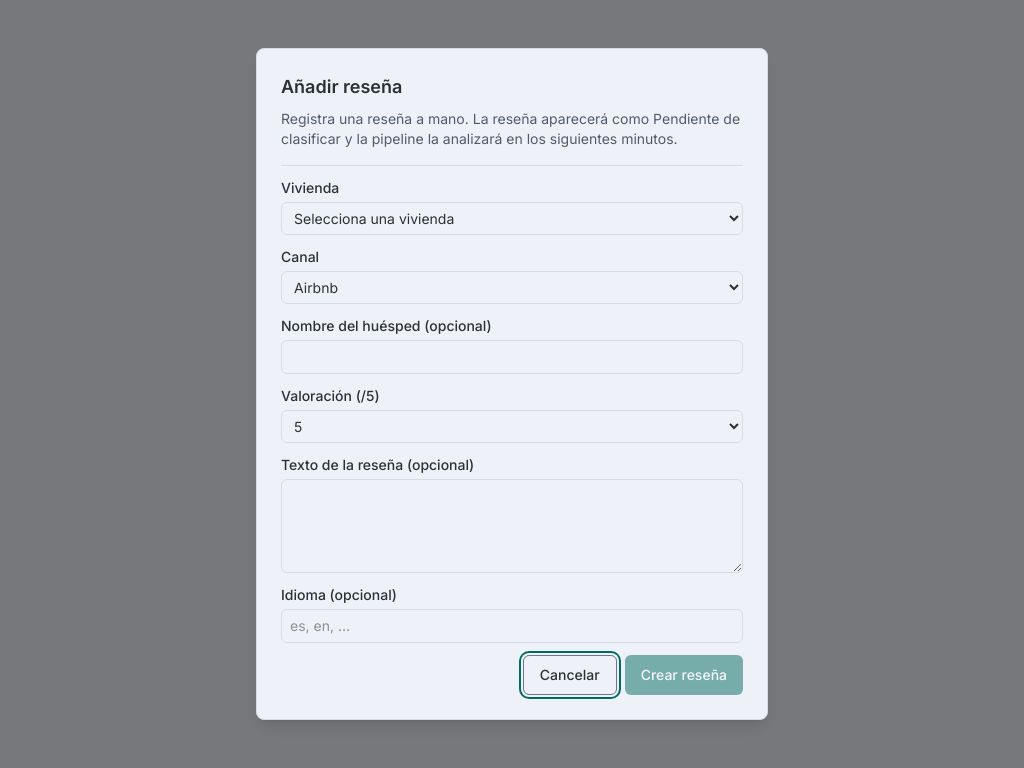
Test: CreateReviewDialog — the form (R5.3, R5.4) › resets its local state when the cancel button closes it
Select "Ático Sol" in the dropdown labelled "Vivienda" at (512, 218), box [281,202,743,235]
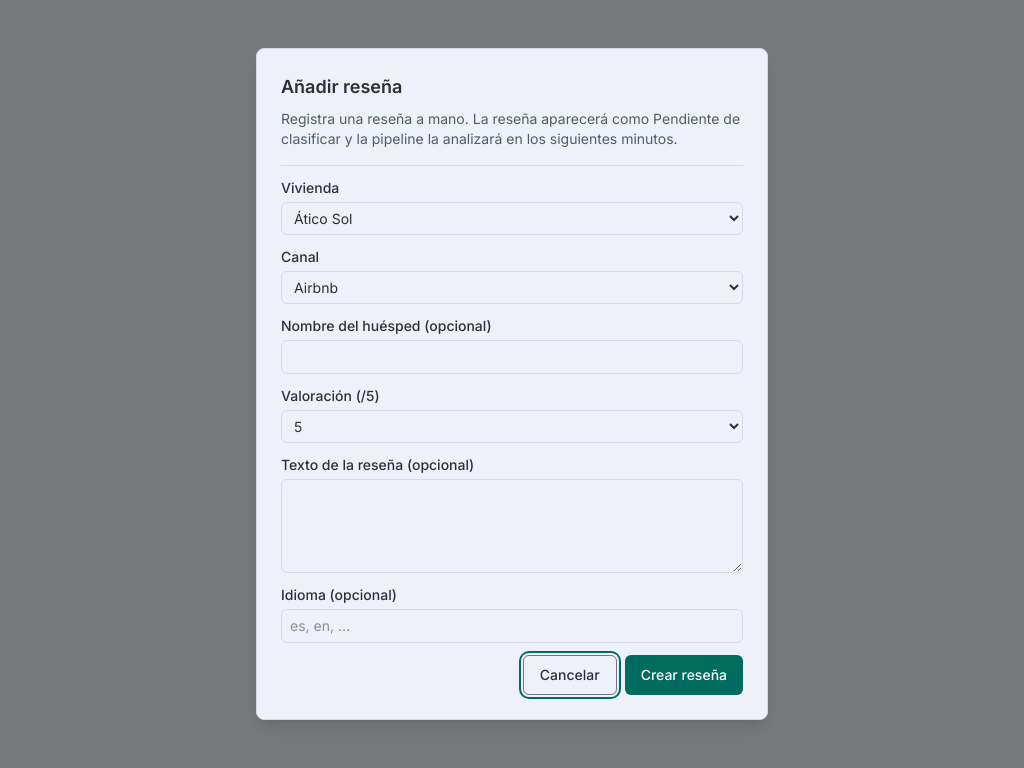
Type "en" into the field labelled "Idioma (opcional)" at (512, 626), box [281,609,743,643]
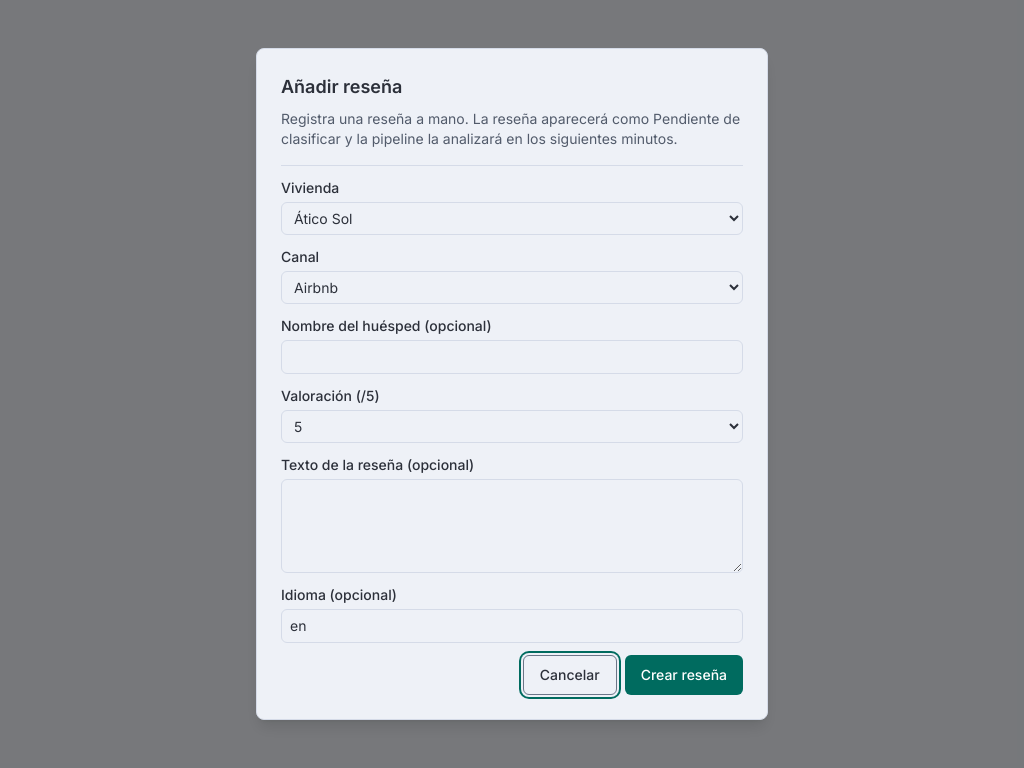
Click the button "Cancelar" at (570, 675), box [523,655,617,695]
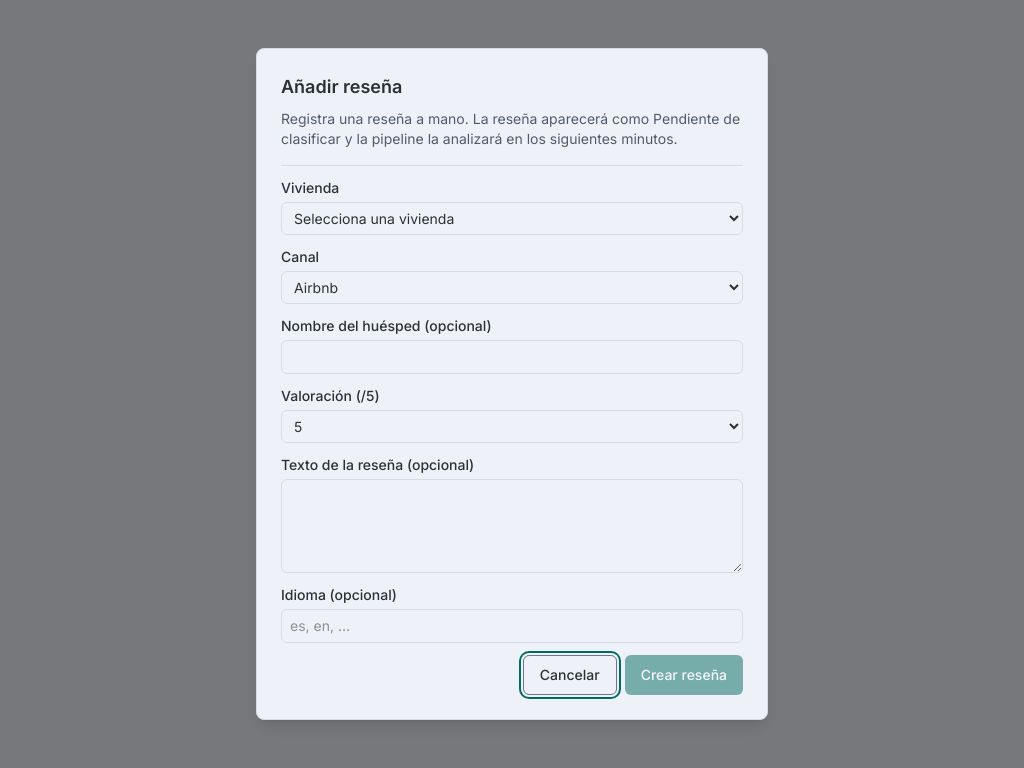
Now the field labelled "Idioma (opcional)" is empty, box [281,609,743,643]
